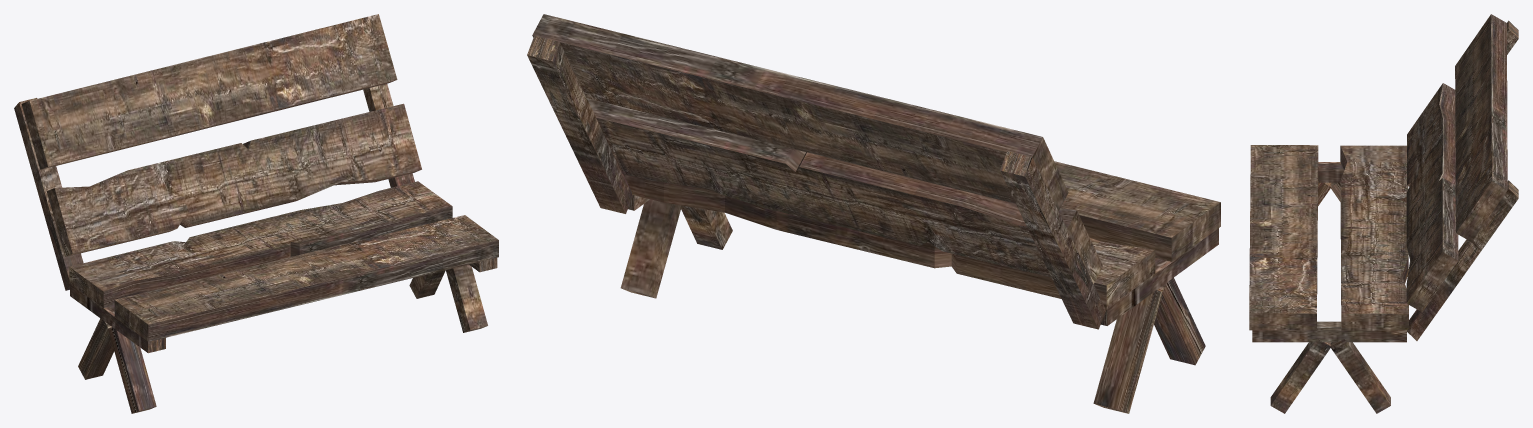
The model's file is Bench.fbx.
The picture shows the model from 3 angles, left to right: view 1: azimuth 30°, elevation 25°; view 2: azimuth 150°, elevation 25°; view 3: azimuth 270°, elevation 25°; orthographic projection. The views are drawn at different scales.
Visible parts, largest first — view 1: Bench_LOD0; view 2: Bench_LOD0; view 3: Bench_LOD0.
Part boxes in pixels (x1=…): Bench_LOD0: x1=14, y1=14, x2=498, y2=413; Bench_LOD0: x1=527, y1=14, x2=1220, y2=413; Bench_LOD0: x1=1249, y1=14, x2=1518, y2=413.
Size of what is drawn, in the model's own units: 73.76 by 47.38 by 49.43.
Materials: 1 (1 with a texture image).
